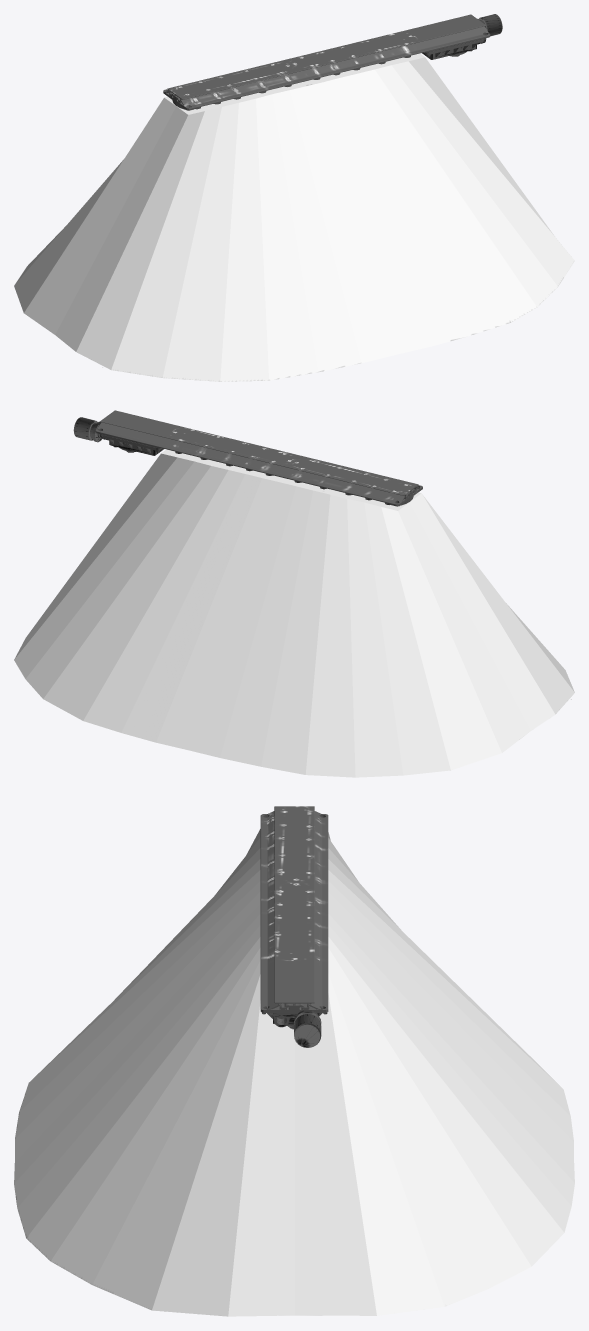
File: zpla_without_cube.obj
The picture shows the model from 3 angles, top to bottom: view 1: azimuth 30°, elevation 25°; view 2: azimuth 150°, elevation 25°; view 3: azimuth 270°, elevation 25°; orthographic projection. The views are drawn at different scales.
Visible parts, largest first — view 1: Cylinder, ZPL4_UNV1_S891; view 2: Cylinder, ZPL4_UNV1_S891; view 3: Cylinder, ZPL4_UNV1_S891.
Part boxes in pixels (x1,y1,x2,y2): Cylinder: (14,53,574,381); ZPL4_UNV1_S891: (163,14,502,110); Cylinder: (14,449,574,777); ZPL4_UNV1_S891: (73,410,422,506); Cylinder: (14,829,574,1316); ZPL4_UNV1_S891: (260,806,328,1047).
Bounding box in the file's own units: 70.07 × 29.96 × 53.88.
3 materials, 2 textured.
